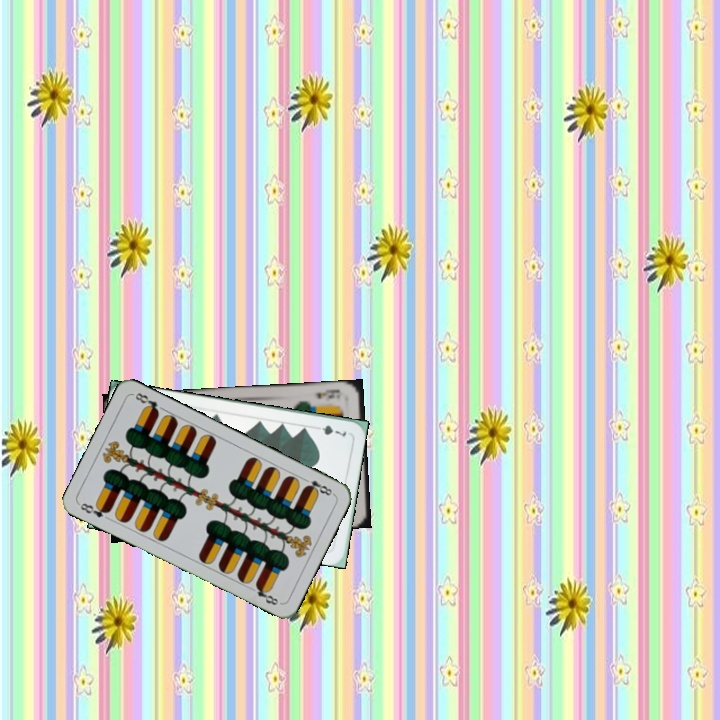E8: (299, 474, 336, 498), (75, 499, 113, 520)
EK: (311, 385, 342, 401)
G7: (310, 421, 349, 439)
